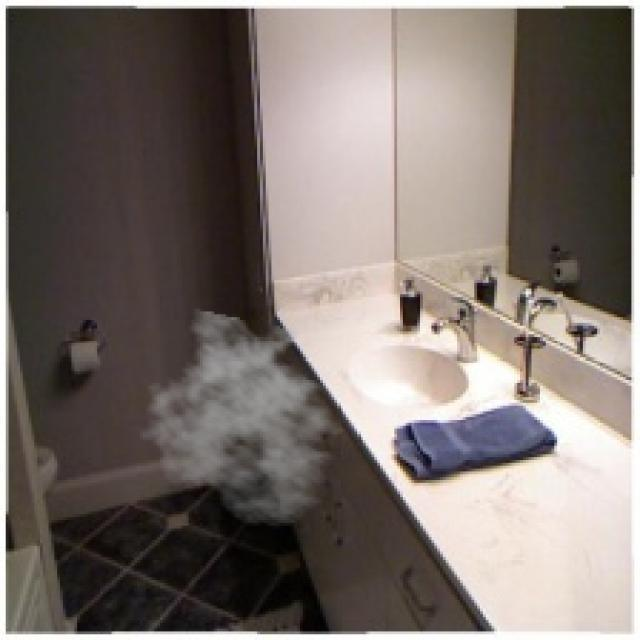Smoke: (137, 308, 354, 528)
